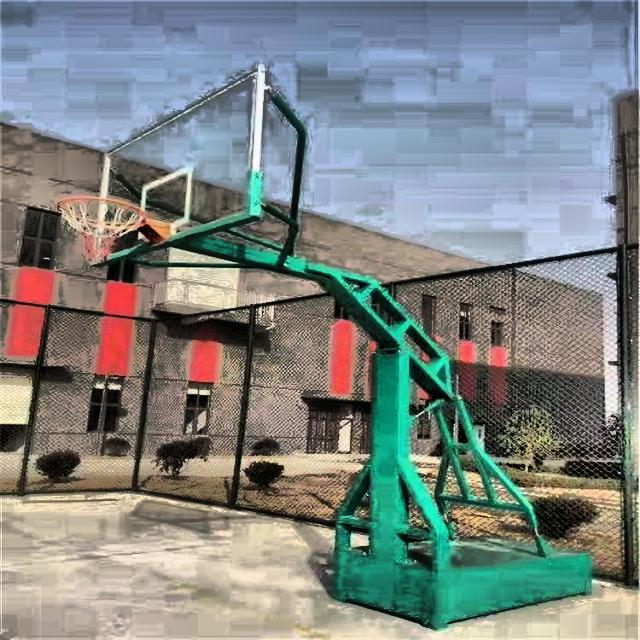rim: (54, 195, 148, 266)
